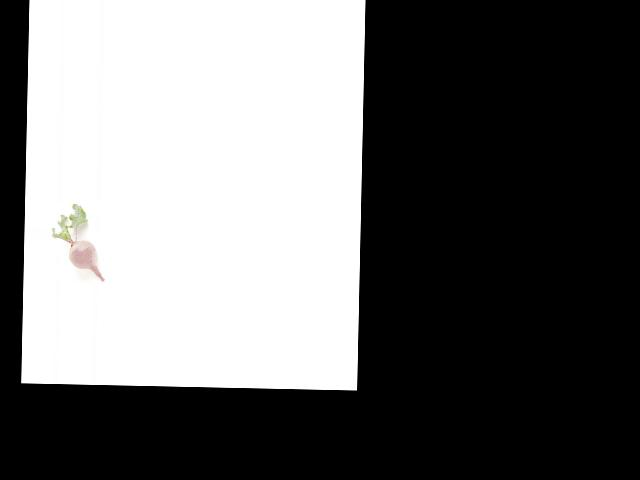beet: (50, 202, 106, 281)
